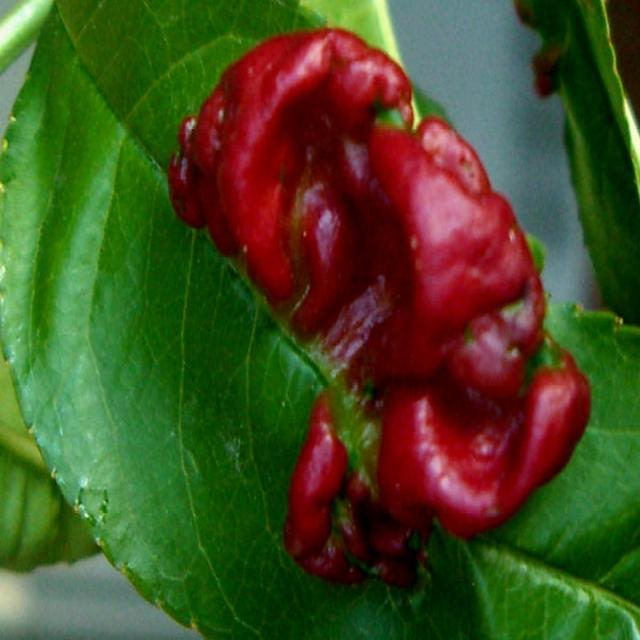peach_leaf_curl: (165, 23, 593, 590)
